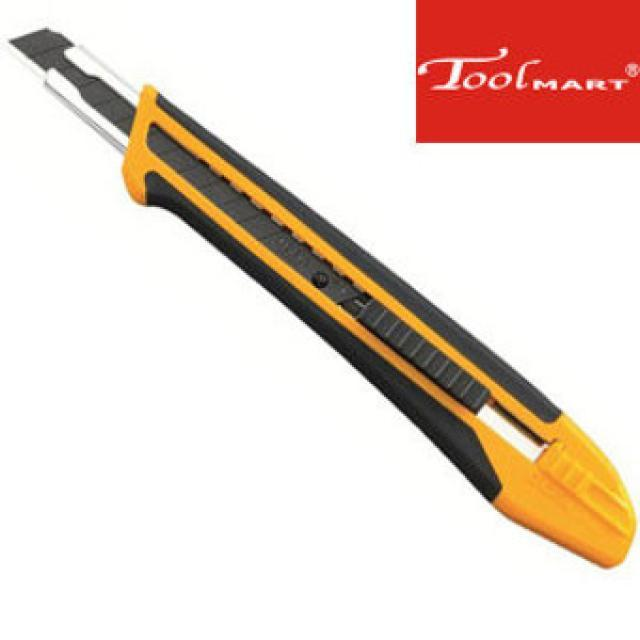cutter: (1, 18, 640, 574)
